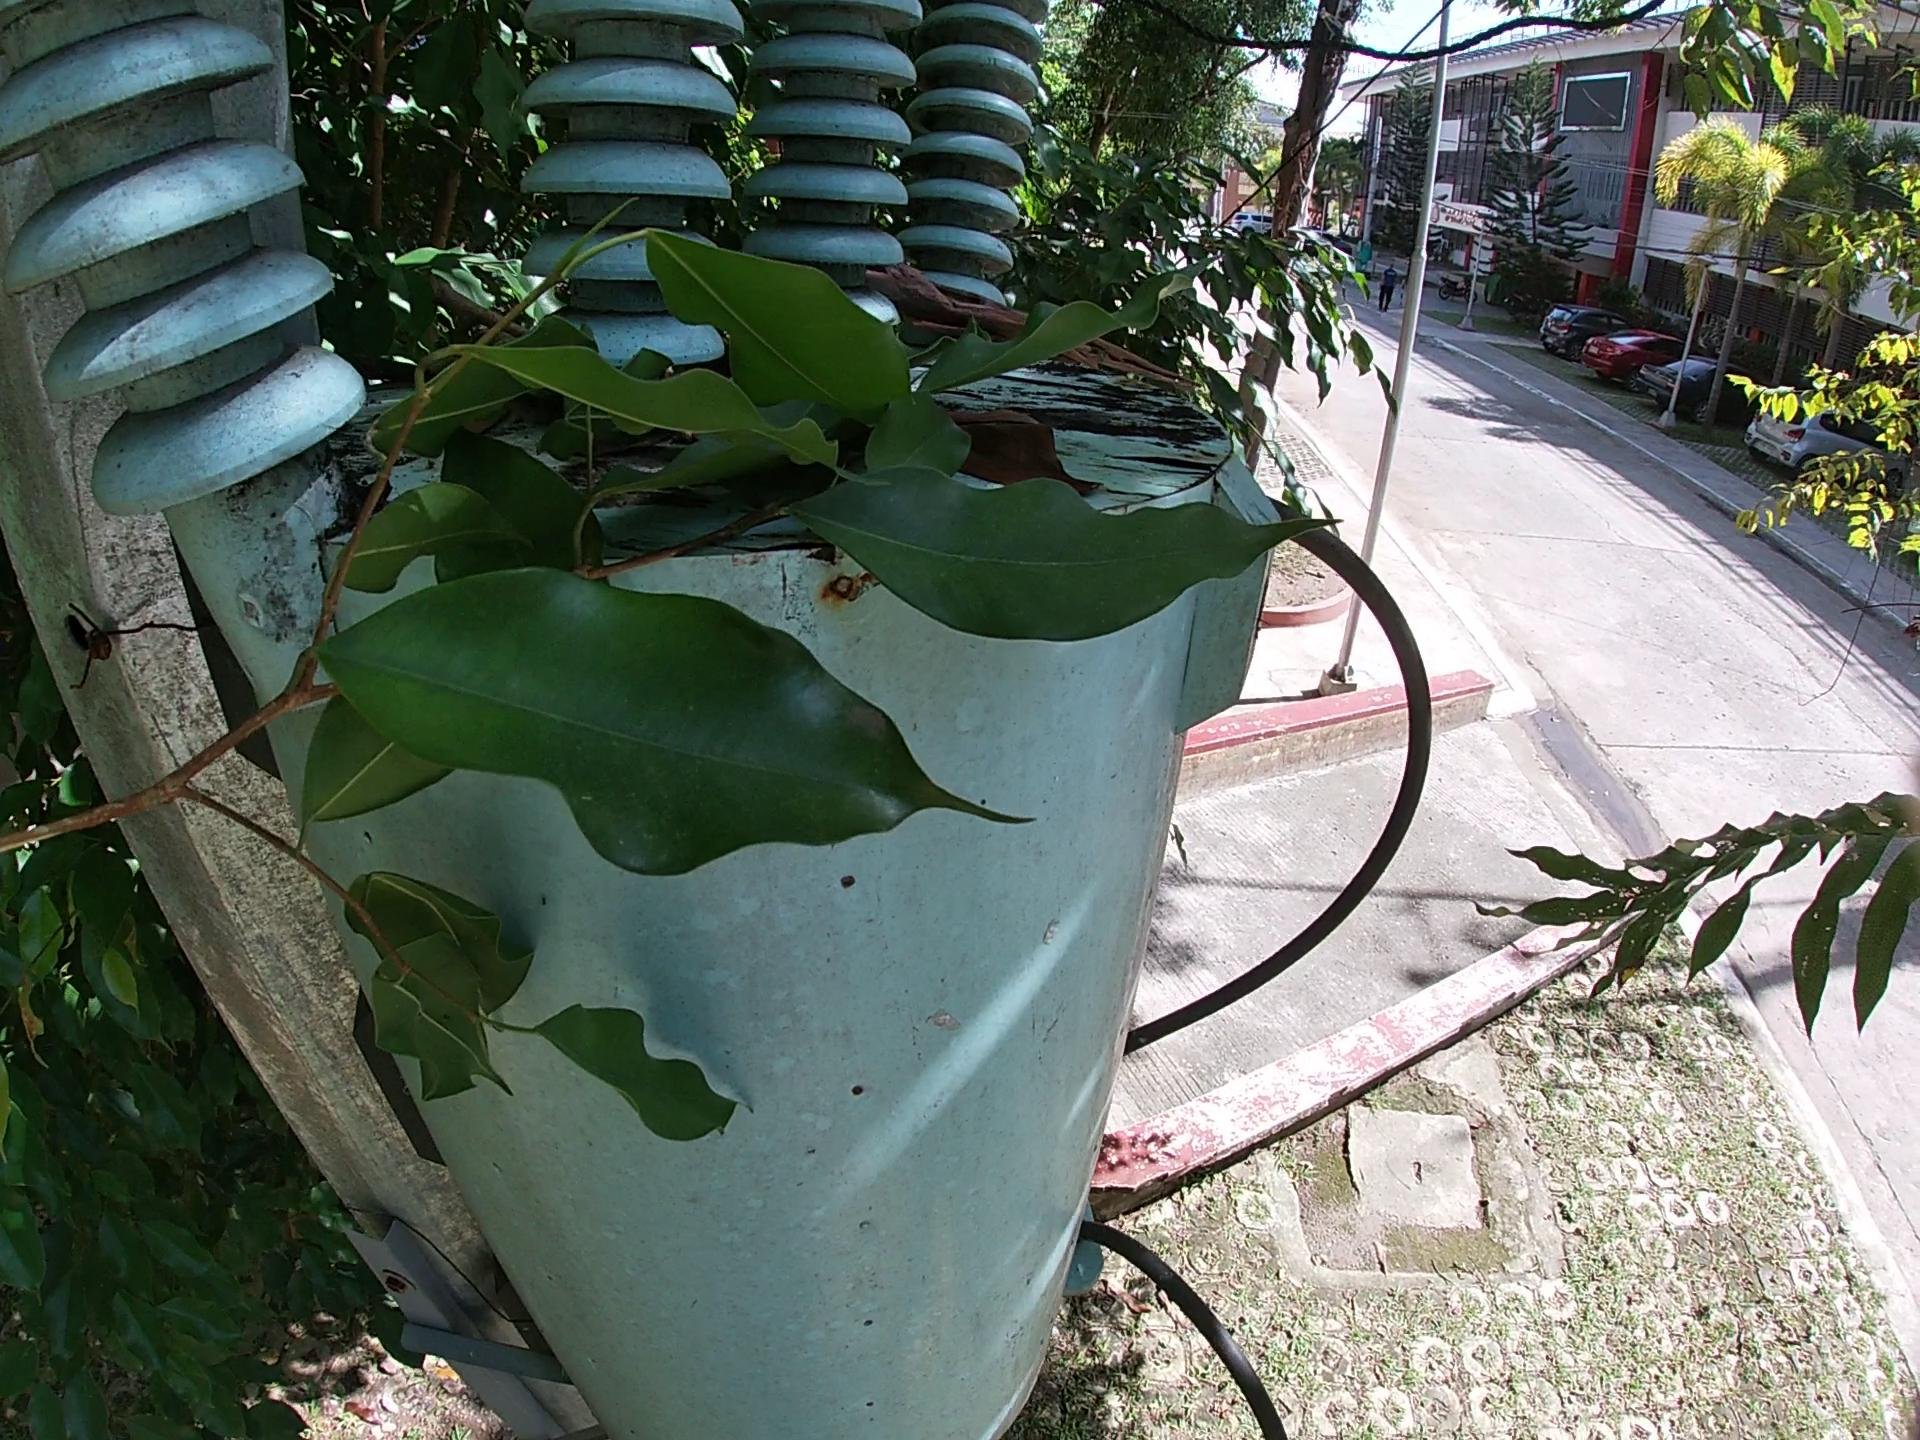branch with leaves: (2, 188, 1358, 1153)
leaf: (948, 411, 1113, 499)
tree branch: (865, 260, 1217, 405), (425, 271, 534, 337)
